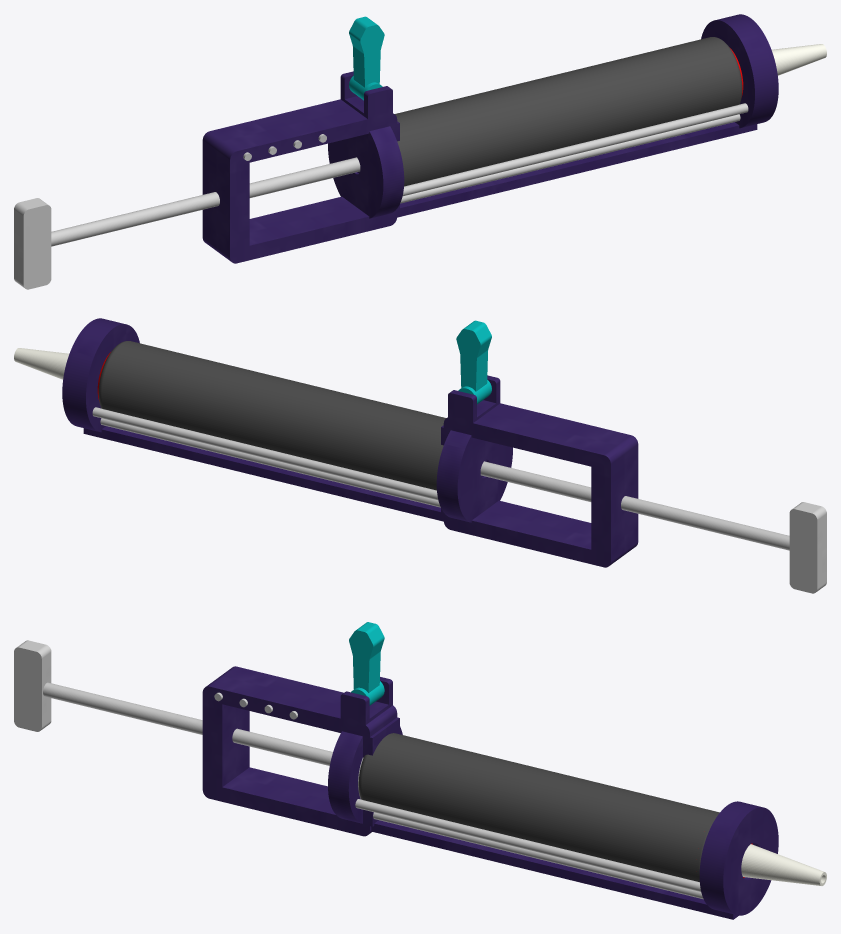
Rendered from Handtools_caulking_gun__0047.glb.
3 renders of one model, top to bottom at view 1: azimuth 30°, elevation 25°; view 2: azimuth 150°, elevation 25°; view 3: azimuth 330°, elevation 25°, orthographic.
Parts seen in each view (by area): view 1: frame::frame_shell, cartridge::cartridge_body, plunger::plunger_rod, frame::rib_rod_0, frame::rib_rod_1, trigger::trigger_blade, cartridge::nozzle; view 2: frame::frame_shell, cartridge::cartridge_body, plunger::plunger_rod, frame::rib_rod_4, frame::rib_rod_3, trigger::trigger_blade, cartridge::nozzle; view 3: frame::frame_shell, cartridge::cartridge_body, plunger::plunger_rod, frame::rib_rod_0, frame::rib_rod_1, trigger::trigger_blade, cartridge::nozzle.
Boxes of the visible parts, x1=… form: frame::frame_shell: x1=202, y1=14, x2=778, y2=263; cartridge::cartridge_body: x1=394, y1=37, x2=742, y2=186; plunger::plunger_rod: x1=14, y1=157, x2=360, y2=289; frame::rib_rod_0: x1=402, y1=103, x2=748, y2=196; frame::rib_rod_1: x1=400, y1=114, x2=740, y2=203; trigger::trigger_blade: x1=349, y1=16, x2=384, y2=100; cartridge::nozzle: x1=771, y1=44, x2=826, y2=75; frame::frame_shell: x1=62, y1=318, x2=638, y2=567; cartridge::cartridge_body: x1=98, y1=341, x2=446, y2=490; plunger::plunger_rod: x1=480, y1=461, x2=826, y2=593; frame::rib_rod_4: x1=92, y1=407, x2=438, y2=500; frame::rib_rod_3: x1=100, y1=418, x2=440, y2=507; trigger::trigger_blade: x1=456, y1=320, x2=491, y2=404; cartridge::nozzle: x1=14, y1=348, x2=69, y2=379; frame::frame_shell: x1=202, y1=666, x2=778, y2=919; cartridge::cartridge_body: x1=358, y1=733, x2=719, y2=881; plunger::plunger_rod: x1=14, y1=640, x2=363, y2=799; frame::rib_rod_0: x1=355, y1=799, x2=700, y2=891; frame::rib_rod_1: x1=373, y1=812, x2=703, y2=899; trigger::trigger_blade: x1=349, y1=622, x2=384, y2=705; cartridge::nozzle: x1=741, y1=844, x2=826, y2=885.
Size of the model in its own units: 0.5779 by 0.135 by 0.069.
6 materials, 2 textured.
